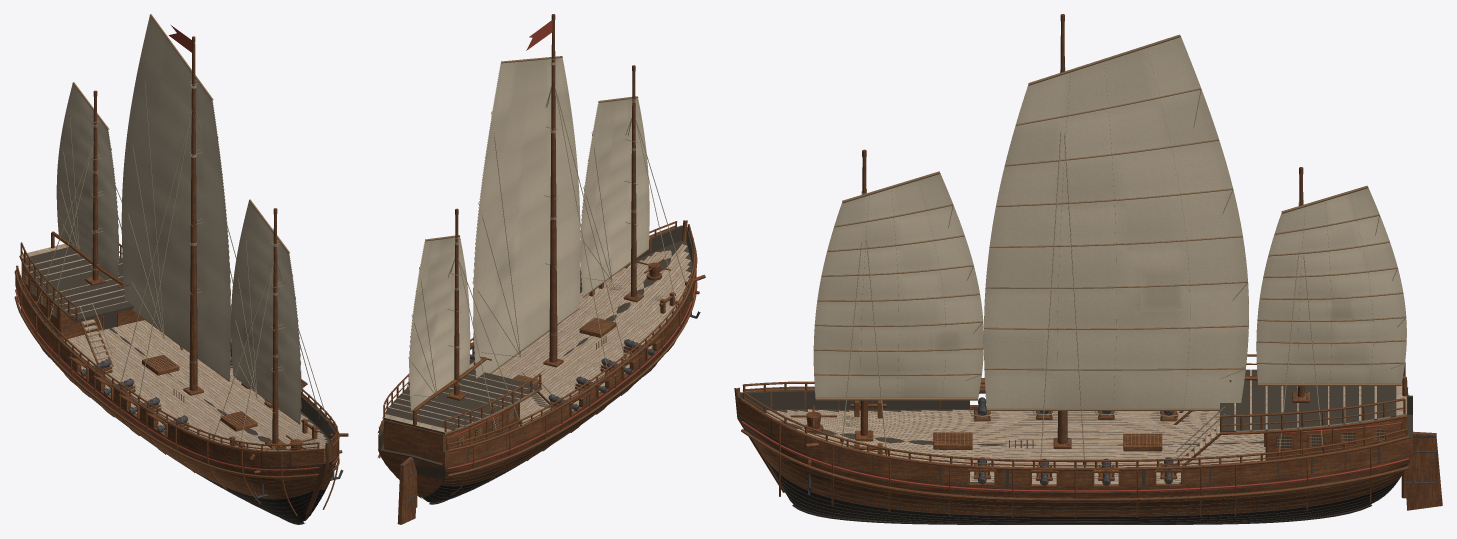
Rendered from fuchuan-lod0.glb.
The picture shows the model from 3 angles, left to right: view 1: azimuth 30°, elevation 25°; view 2: azimuth 150°, elevation 25°; view 3: azimuth 270°, elevation 25°; orthographic projection. The views are drawn at different scales.
Parts seen in each view (by area): view 1: sail_1, hull, deck, sail_0, sail_2, shadow_deck, shadow_hull, deck_fittings, bulwark_rails, mast_timber_1, sterncastle, mast_timber_0 (+8 smaller); view 2: sail_1, deck, hull, sail_0, sail_2, shadow_hull, shadow_deck, sterncastle, bulwark_rails, deck_fittings, mast_timber_1, mast_timber_0 (+7 smaller); view 3: sail_1, hull, sail_0, sail_2, deck, shadow_hull, shadow_deck, bulwark_rails, deck_fittings, rudder_blade, sterncastle, rigging_1.
Boxes of the visible parts, x1,y1,x2,y2 form: sail_1: (121, 14, 231, 381); hull: (14, 270, 339, 524); deck: (19, 244, 330, 450); sail_0: (231, 199, 301, 424); sail_2: (56, 82, 119, 278); shadow_deck: (22, 247, 133, 322); shadow_hull: (15, 270, 337, 521); deck_fittings: (21, 262, 348, 498); bulwark_rails: (16, 242, 338, 452); mast_timber_1: (189, 43, 197, 390); sterncastle: (23, 266, 144, 339); mast_timber_0: (272, 214, 278, 443); sail_1: (472, 56, 580, 378); deck: (382, 244, 690, 435); hull: (378, 220, 697, 504); sail_0: (580, 96, 649, 297); sail_2: (408, 235, 470, 411); shadow_hull: (378, 225, 693, 501); shadow_deck: (383, 370, 541, 434); sterncastle: (384, 404, 518, 463); bulwark_rails: (378, 221, 695, 450); deck_fittings: (384, 258, 705, 450); mast_timber_1: (549, 20, 557, 362); mast_timber_0: (631, 71, 636, 297); sail_1: (984, 34, 1248, 410); hull: (734, 387, 1412, 524); sail_0: (813, 171, 983, 400); sail_2: (1256, 185, 1406, 386); deck: (766, 369, 1407, 484); shadow_hull: (737, 390, 1412, 523); shadow_deck: (1220, 369, 1396, 432); bulwark_rails: (742, 354, 1408, 467); deck_fittings: (790, 391, 1403, 494); rudder_blade: (1405, 431, 1442, 510); sterncastle: (1265, 380, 1407, 460); rigging_1: (1038, 132, 1086, 473).
Bounding box in the file's own units: 10.4 × 26.65 × 33.56.
11 materials, 6 textured.
